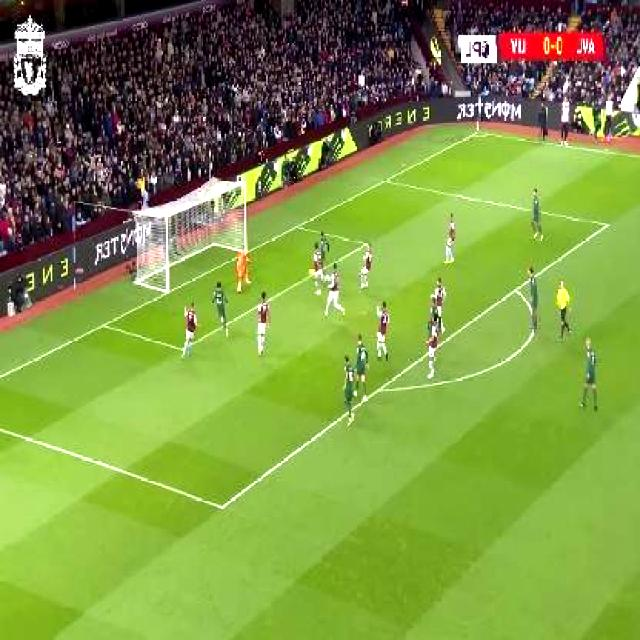bigarea_bottom_inner: (212, 489, 234, 520)
bigarea_top_inner: (602, 214, 616, 232)
bigarea_top_outter: (380, 172, 392, 188)
bottom_arc_area_intersection: (374, 378, 388, 397)
corner: (471, 125, 489, 138)
smallarea_bottom_outter: (97, 314, 114, 334)
smallarea_top_inner: (360, 234, 374, 251)
smallarea_top_outter: (290, 217, 304, 234)
top_arc_area_intersection: (510, 280, 524, 298)
